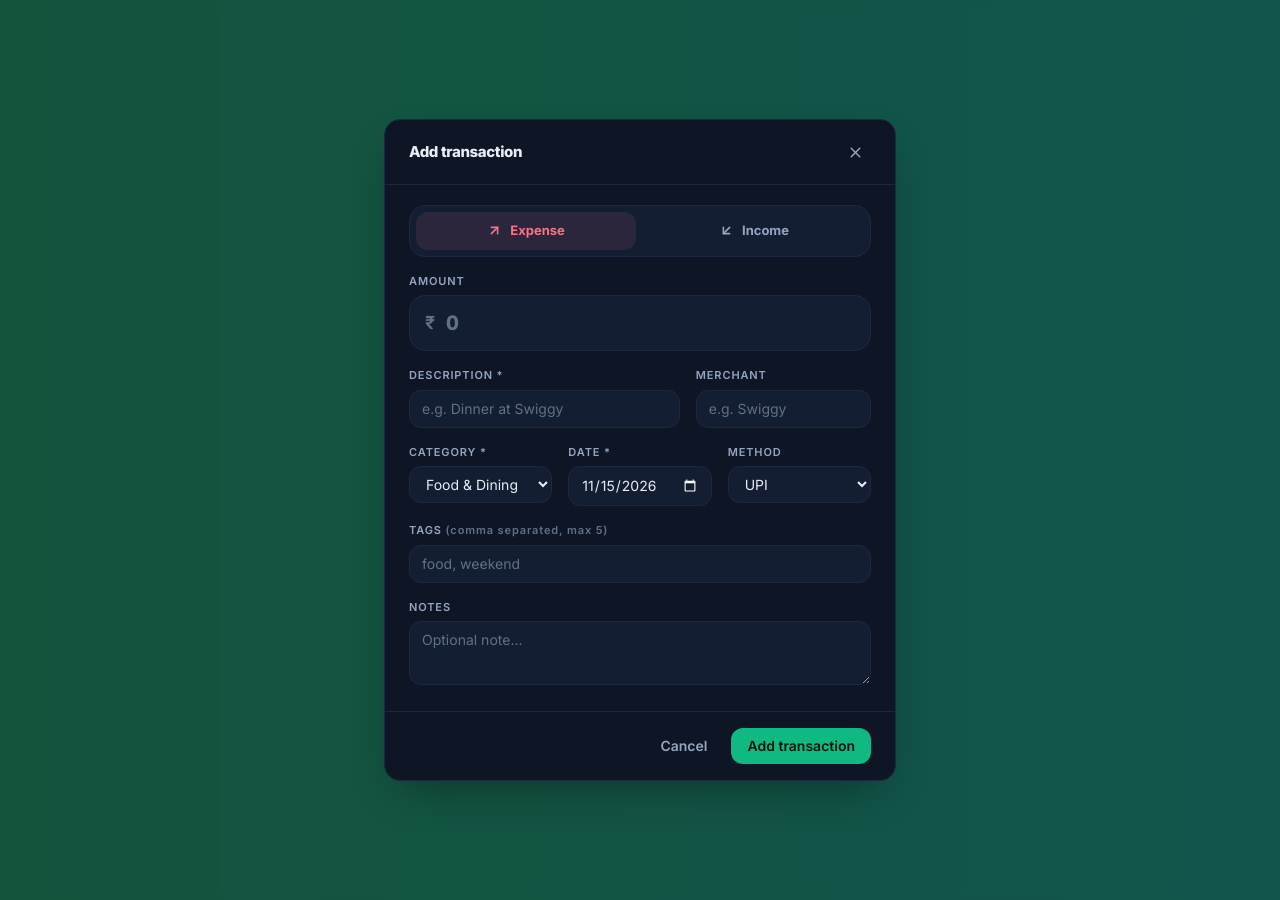
it: TransactionModal › switches category list when toggling to income
The image size is (1280, 900).
Step 1. Click the tab "Income" → (754, 231), box [644,212,864,250]
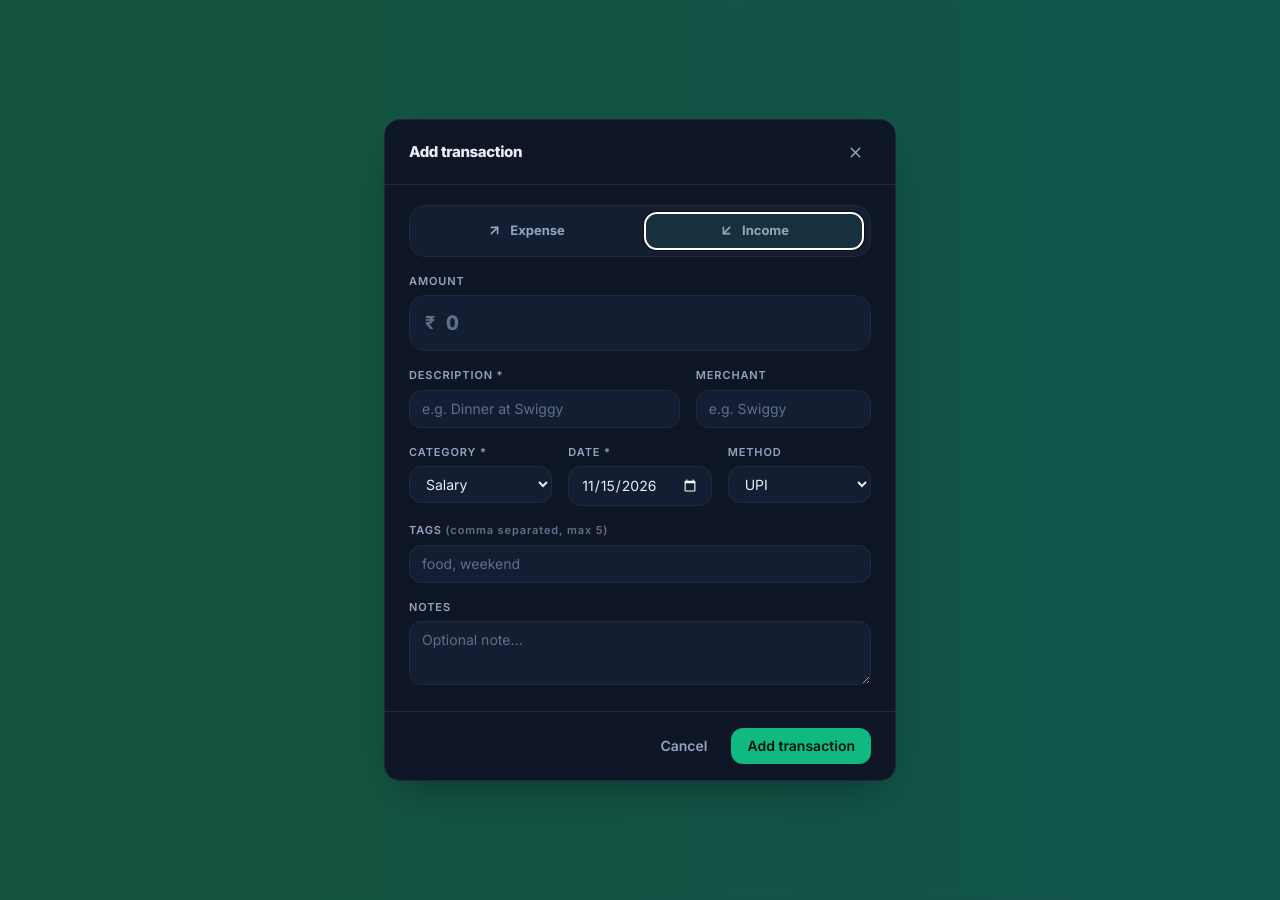
Expected: the text "Food & Dining" is not shown
Expected: the tab "Income" is selected, [644,212,864,250]
